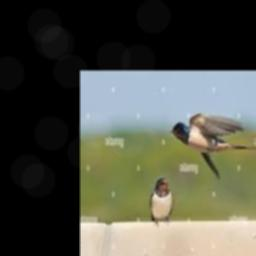Swallow: (171, 114, 256, 180), (150, 178, 174, 225)
